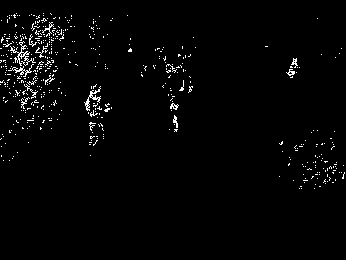person: (84, 84, 114, 148)
